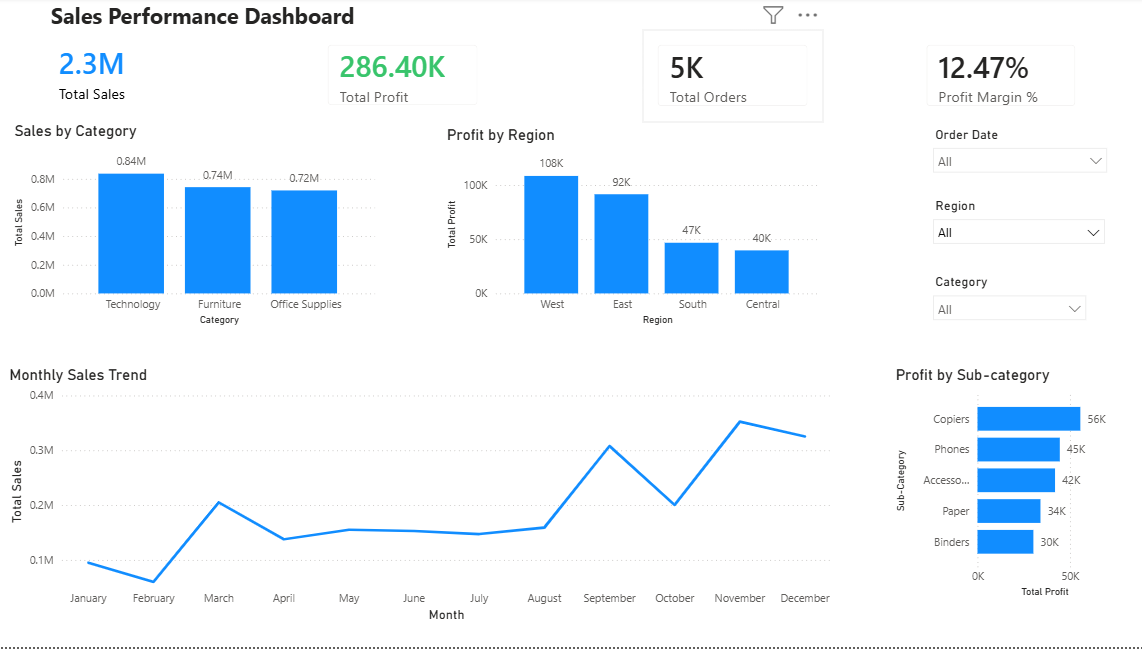

The page's visual inventory and layout, read from the dashboard file:
{"tool":"powerbi","page":{"name":"Page 1","canvas":[1280,720],"ordinal":0},"visuals":[{"type":"cardVisual","fields":{"Data":["Orders1.total_sales"]},"box":[47.1,36,185.7,95.6],"z":0},{"type":"cardVisual","fields":{"Data":["Orders1.total_profit"]},"box":[357.5,36,200.9,101.1],"z":1000},{"type":"cardVisual","fields":{"Data":["Orders1.total_orders"]},"box":[723.3,36,200.9,102.5],"z":2000},{"type":"clusteredColumnChart","title":"Profit by Region","fields":{"Category":["Orders1.Region"],"Y":["Orders1.total_profit"]},"box":[501.6,142.7,422.6,225.9],"z":3000},{"type":"clusteredColumnChart","title":"Sales by Category","fields":{"Category":["Orders1.Category"],"Y":["Orders1.total_sales"]},"box":[22.2,138.6,410.1,230],"z":4000},{"type":"lineChart","title":"Monthly Sales Trend","fields":{"Y":["Orders1.total_sales"],"Category":["Orders1.Order Date.Variation.Date Hierarchy.Month"]},"box":[16.6,408.7,922.8,289.6],"z":5000},{"type":"slicer","fields":{"Values":["Orders1.Region"]},"box":[1035,217.5,210.6,70.7],"z":6000},{"type":"slicer","fields":{"Values":["Orders1.Order Date.Variation.Date Hierarchy.Year","Orders1.Order Date.Variation.Date Hierarchy.Quarter","Orders1.Order Date.Variation.Date Hierarchy.Month","Orders1.Order Date.Variation.Date Hierarchy.Day"]},"box":[1035,138.6,213.4,85.9],"z":7000},{"type":"slicer","fields":{"Values":["Orders1.Category"]},"box":[1035,302.1,189.8,58.2],"z":8000},{"type":"clusteredBarChart","title":"Profit by Sub-category","fields":{"Category":["Orders1.Sub-Category"],"Y":["Orders1.total_profit"]},"box":[999,408.7,260.5,261.9],"z":9000},{"type":"cardVisual","fields":{"Data":["Orders1.profit_margin%"]},"box":[1021.2,36,199.5,102.5],"z":10000},{"type":"textbox","box":[62.4,0,358.9,47.1],"z":11000}]}

Visuals, with their boxes in screenshot pixels (x1, y1, x2, y2), scaled from the page's 1280x720 canvas onto the 1142x654 screenshot:
cardVisual - Orders1.total_sales: region(42, 33, 208, 120)
cardVisual - Orders1.total_profit: region(319, 33, 498, 125)
cardVisual - Orders1.total_orders: region(645, 33, 825, 126)
"Profit by Region" clusteredColumnChart: region(448, 130, 825, 335)
"Sales by Category" clusteredColumnChart: region(20, 126, 386, 335)
"Monthly Sales Trend" lineChart: region(15, 371, 838, 634)
slicer - Orders1.Region: region(923, 198, 1111, 262)
slicer - Orders1.Order Date.Variation.Date Hierarchy.Year x Orders1.Order Date.Variation.Date Hierarchy.Quarter: region(923, 126, 1114, 204)
slicer - Orders1.Category: region(923, 274, 1093, 327)
"Profit by Sub-category" clusteredBarChart: region(891, 371, 1124, 609)
cardVisual - Orders1.profit_margin%: region(911, 33, 1089, 126)
textbox: region(56, 0, 376, 43)
